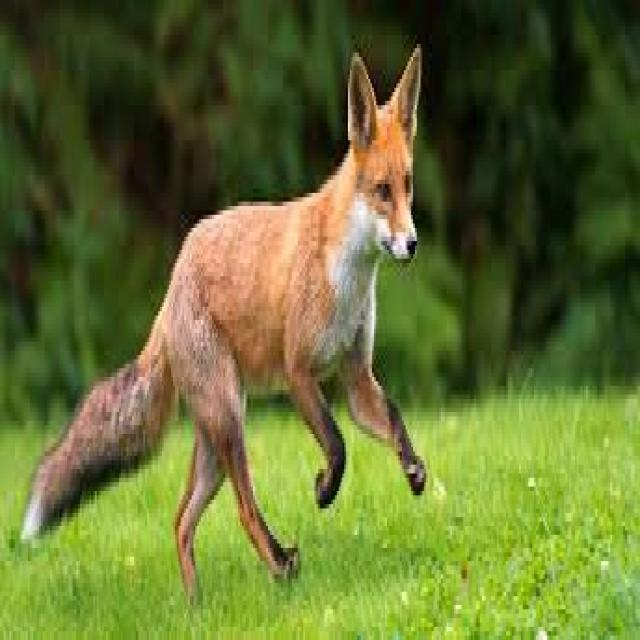fox: (22, 44, 424, 587)
